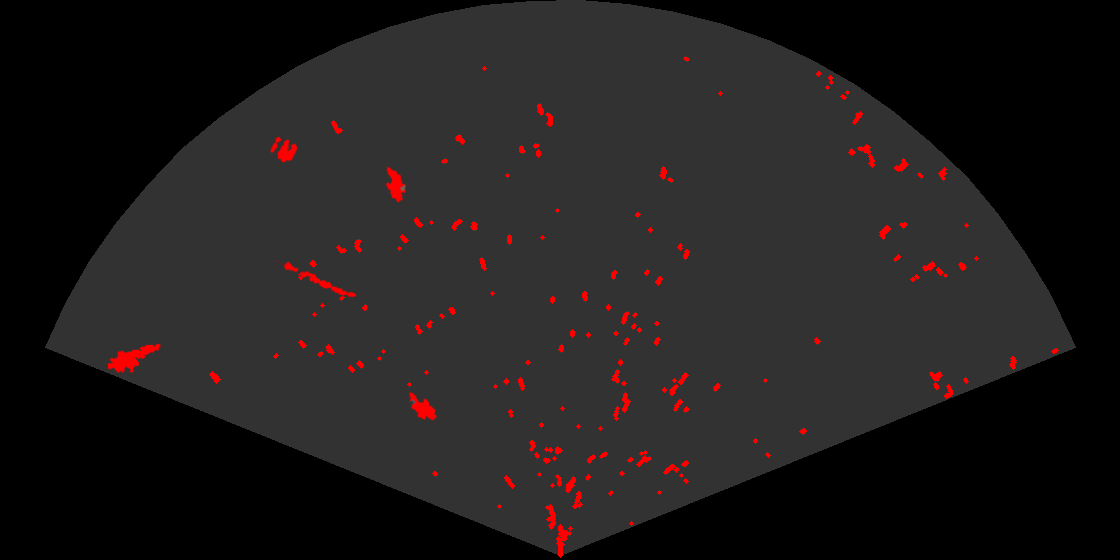AUV: (408, 390, 438, 422), (384, 165, 408, 204)
ball: (269, 135, 299, 164)
chain: (275, 258, 358, 299)
frogman: (108, 342, 162, 375)
